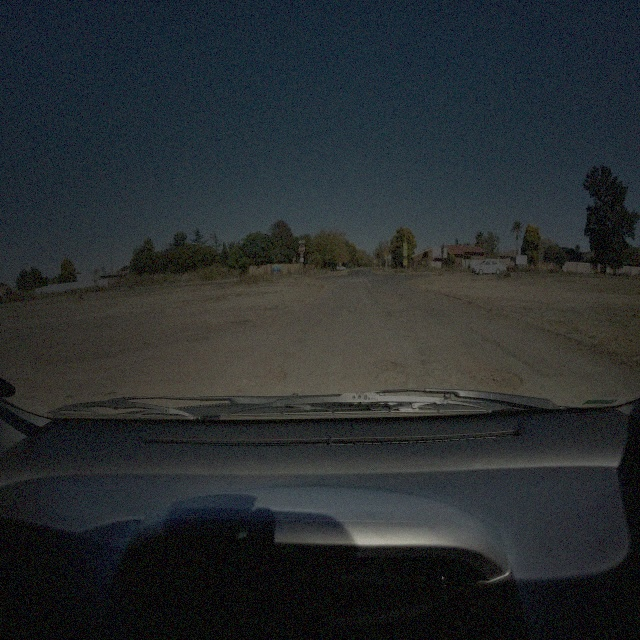pothole: (477, 362, 524, 391), (250, 361, 287, 392), (373, 356, 402, 371)
